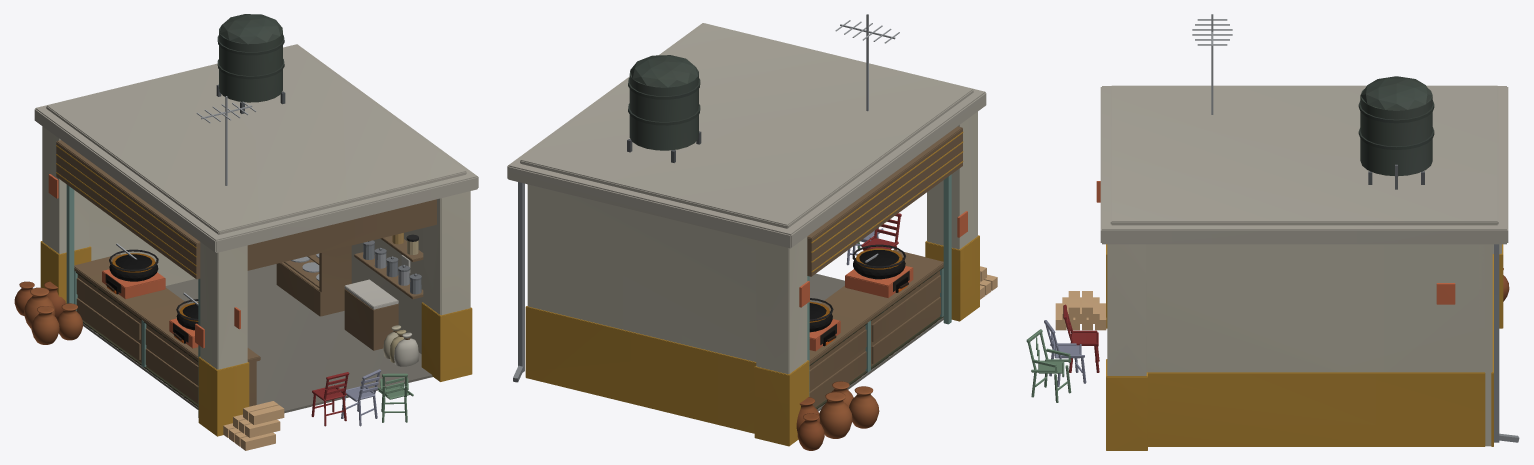
File: halwai_compound.glb
3 renders of one model, left to right at view 1: azimuth 30°, elevation 25°; view 2: azimuth 150°, elevation 25°; view 3: azimuth 270°, elevation 25°, orthographic. The views are drawn at different scales.
Visible parts, largest first — view 1: hb_main, hb_props, hb_brick; view 2: hb_main, hb_props, hb_brick; view 3: hb_main, hb_props, hb_brick.
Boxes of the visible parts, x1,y1,x2,y2 form: hb_main: [14, 14, 478, 436]; hb_props: [66, 184, 284, 450]; hb_brick: [48, 174, 240, 348]; hb_main: [507, 14, 986, 450]; hb_props: [807, 174, 997, 409]; hb_brick: [799, 211, 967, 351]; hb_main: [1026, 14, 1519, 450]; hb_props: [1055, 291, 1106, 330]; hb_brick: [1096, 181, 1455, 304].
Bounding box in the file's own units: 5.99 × 5.51 × 7.5.
